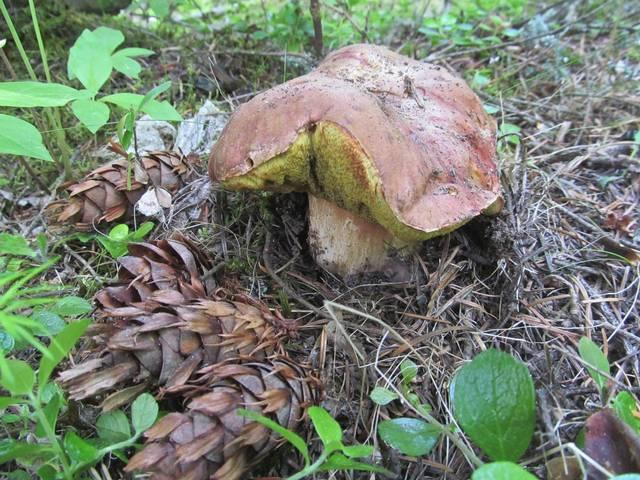edible_mushroom: (206, 41, 504, 285)
